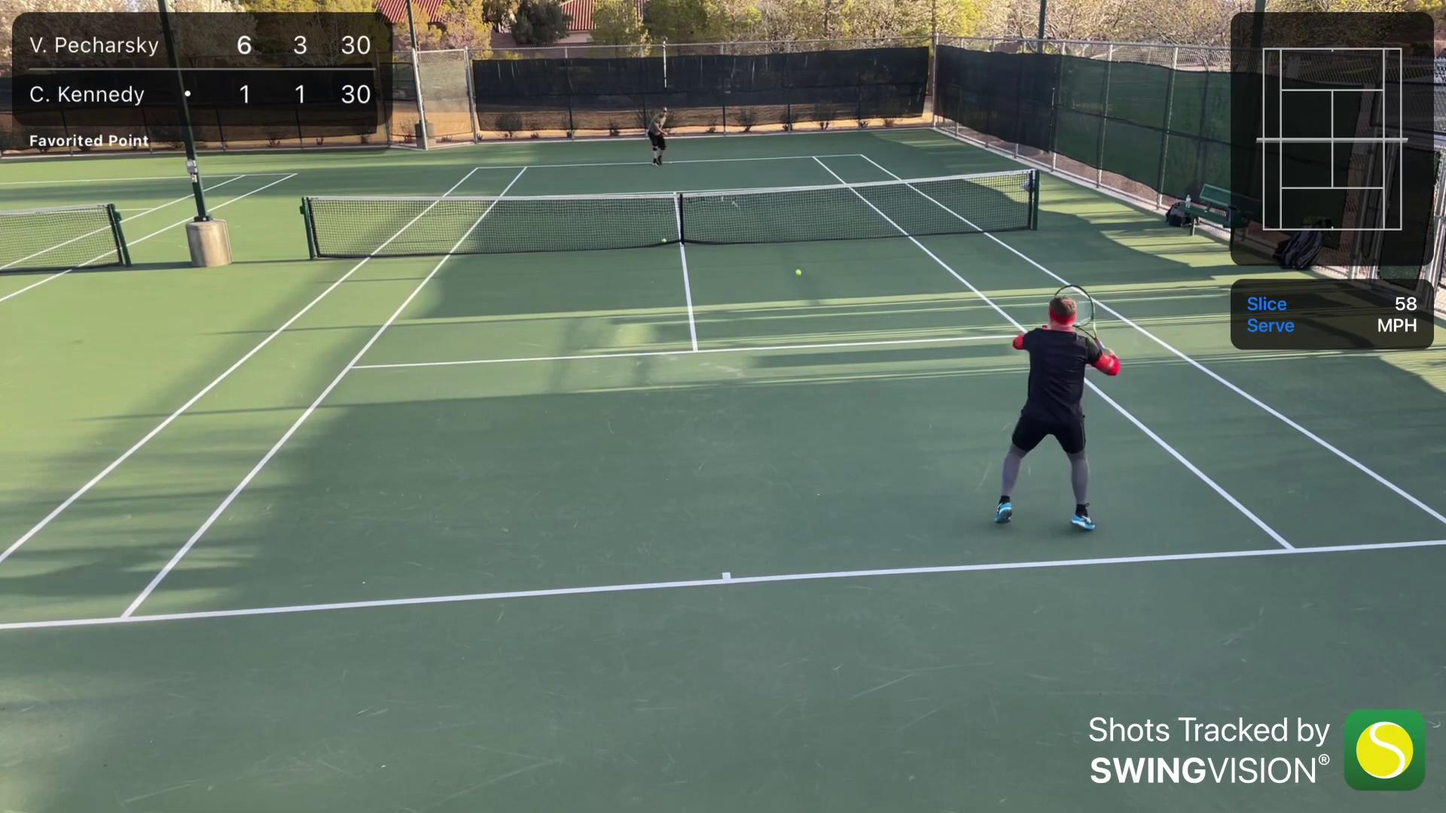ball: (793, 267, 804, 277), (659, 236, 668, 245)
